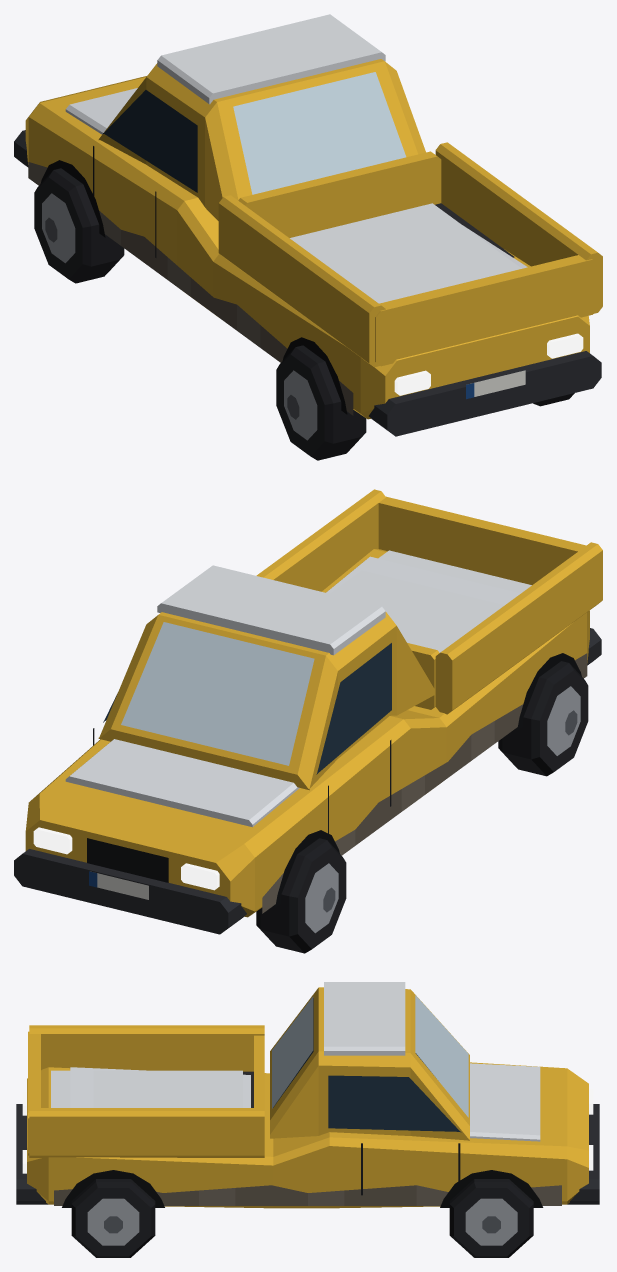
The model's file is pickup_lo.glb.
3 renders of one model, top to bottom at view 1: azimuth 30°, elevation 25°; view 2: azimuth 150°, elevation 25°; view 3: azimuth 270°, elevation 25°, orthographic. The views are drawn at different scales.
Parts seen in each view (by area): view 1: body.007, wheel_RL.007, wheel_FL.007; view 2: body.007, wheel_FL.007, wheel_RL.007; view 3: body.007, wheel_FR.007, wheel_RR.007.
Boxes of the visible parts, x1=… form: body.007: x1=14, y1=14, x2=602, y2=436; wheel_RL.007: x1=276, y1=345, x2=366, y2=460; wheel_FL.007: x1=34, y1=168, x2=124, y2=283; body.007: x1=14, y1=489, x2=602, y2=934; wheel_FL.007: x1=256, y1=838, x2=346, y2=953; wheel_RL.007: x1=498, y1=661, x2=588, y2=776; body.007: x1=16, y1=982, x2=599, y2=1208; wheel_FR.007: x1=449, y1=1179, x2=533, y2=1257; wheel_RR.007: x1=71, y1=1179, x2=155, y2=1257.
Bounding box in the file's own units: 2.32 × 2 × 5.45.
